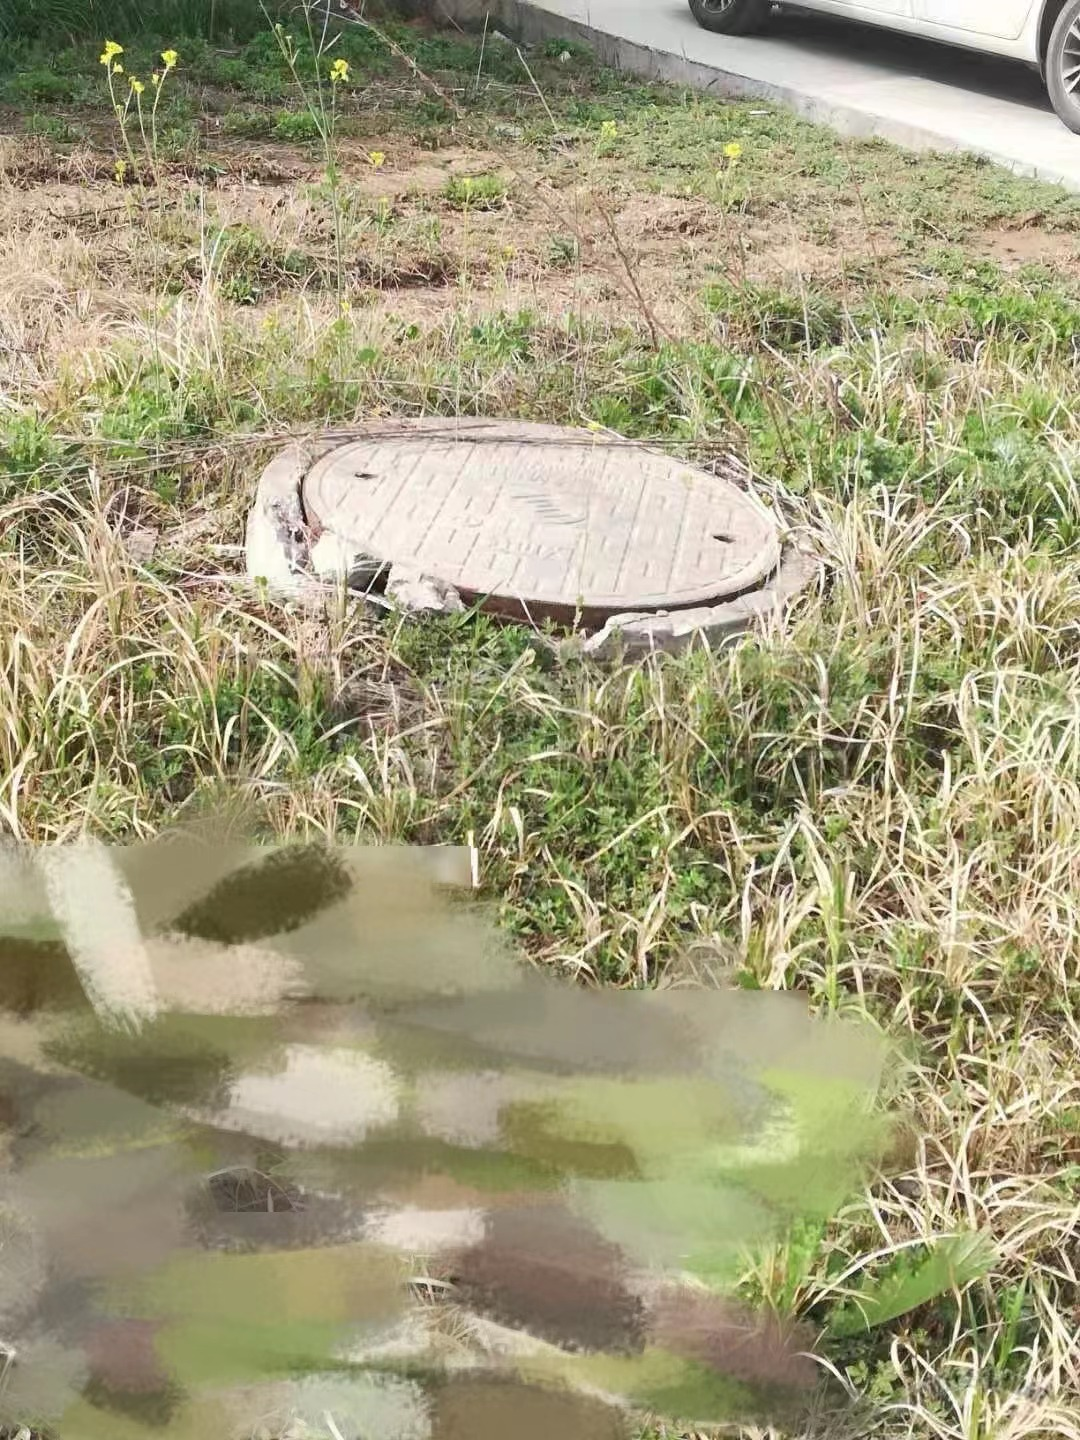well: (269, 425, 821, 639)
